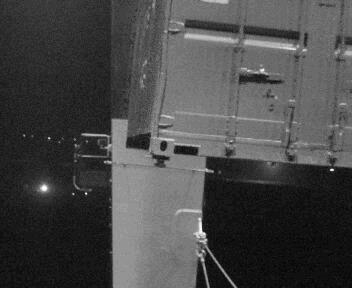twist_lock_1: (149, 153, 174, 174)
